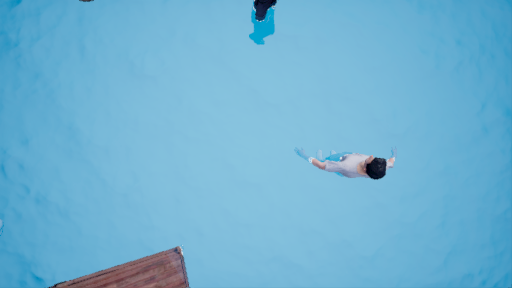person: (289, 145, 402, 181)
